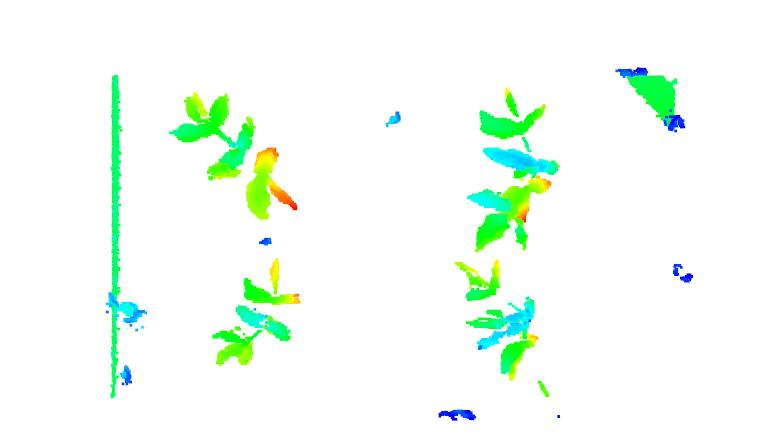mungbean: (170, 87, 301, 225), (468, 86, 567, 258), (446, 254, 541, 382), (209, 255, 298, 372)
